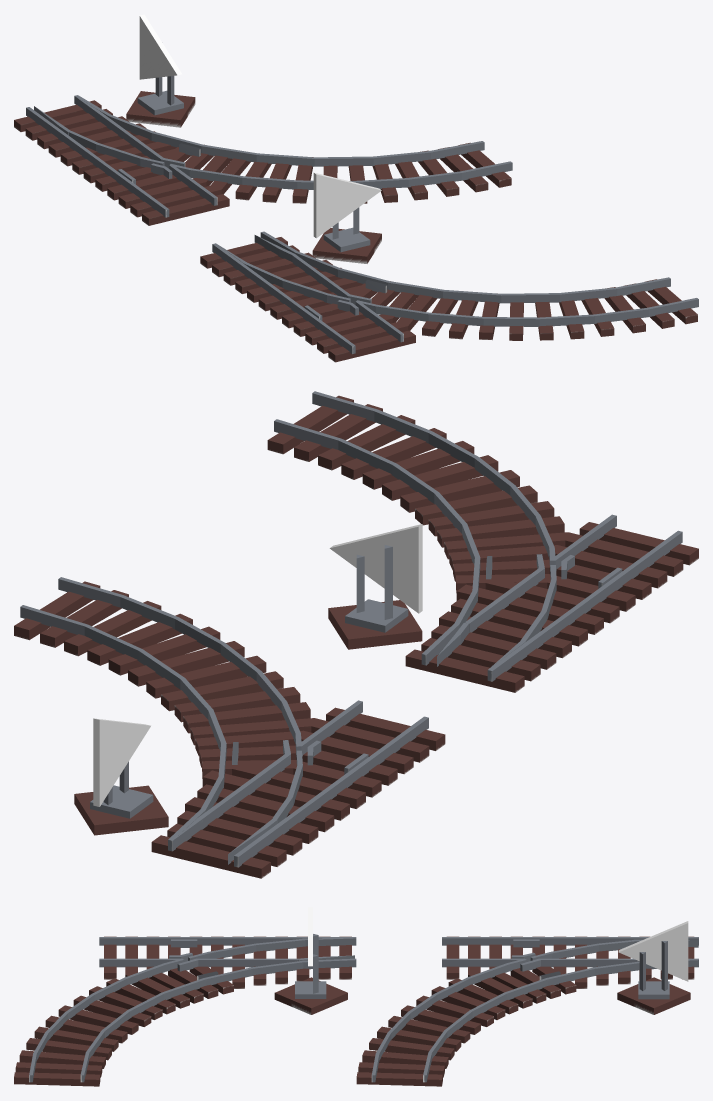
Rendered from left-switch-4-track.blend.glb.
3 renders of one model, top to bottom at view 1: azimuth 30°, elevation 25°; view 2: azimuth 150°, elevation 25°; view 3: azimuth 270°, elevation 25°, orthographic. The views are drawn at different scales.
Visible parts, largest first — view 1: left switch curve, left switch strait; view 2: left switch curve, left switch strait; view 3: left switch strait, left switch curve.
Part boxes in pixels (<box>): left switch curve: <box>200,172,698,362</box>; left switch strait: <box>14,14,512,225</box>; left switch curve: <box>267,391,698,692</box>; left switch strait: <box>14,577,445,878</box>; left switch strait: <box>356,921,698,1086</box>; left switch curve: <box>14,907,356,1086</box>.
Size of the model in its own units: 8 by 2 by 16.
Materials: 1 (1 with a texture image).
